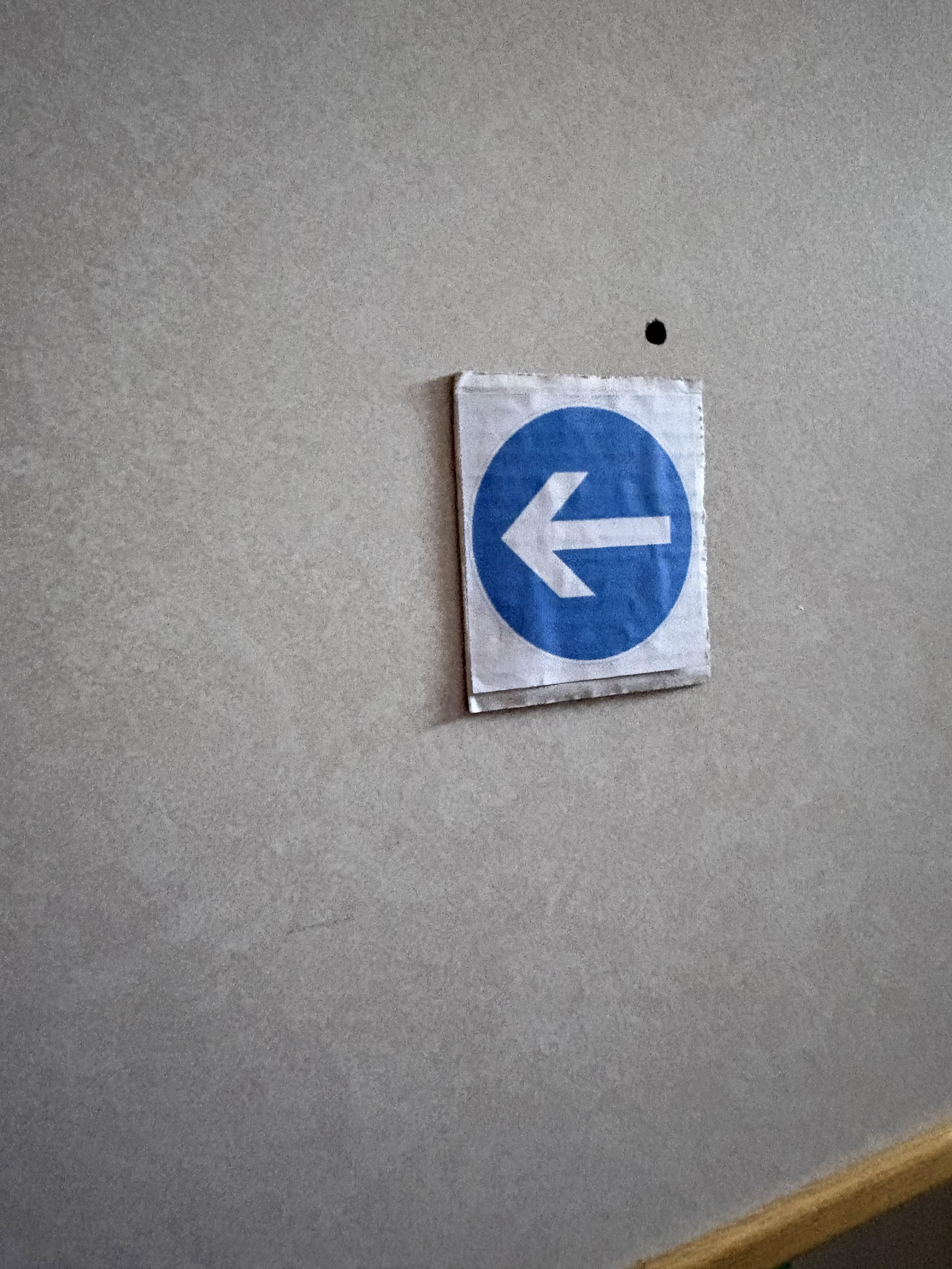Proceed Left: (436, 377, 722, 729)
